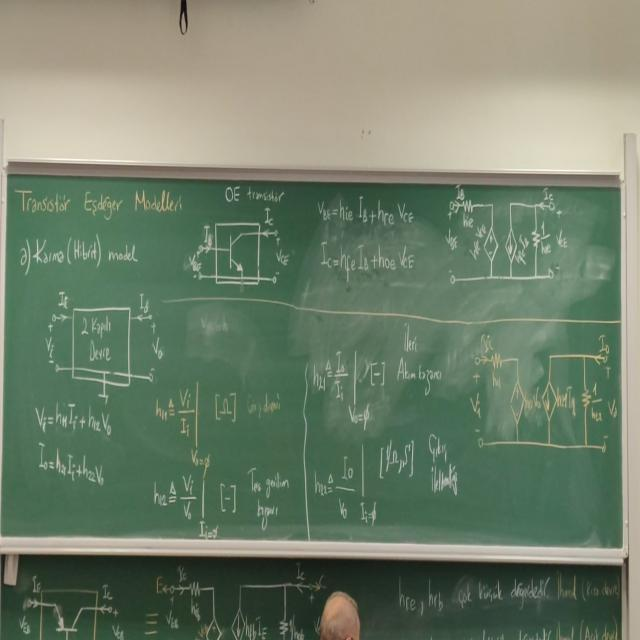image: (464, 324, 620, 461), (39, 280, 167, 402), (442, 183, 574, 299), (186, 204, 292, 306)
math: (312, 424, 418, 538), (313, 190, 417, 285), (151, 377, 244, 472), (31, 396, 120, 491), (304, 340, 392, 433), (148, 460, 241, 540)
text: (15, 177, 183, 220), (21, 224, 140, 273), (418, 424, 466, 520), (392, 317, 446, 391), (247, 459, 293, 525)
